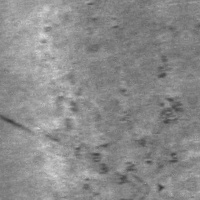rolled-in_scale: (43, 81, 138, 192), (149, 53, 191, 163), (81, 0, 124, 41)
